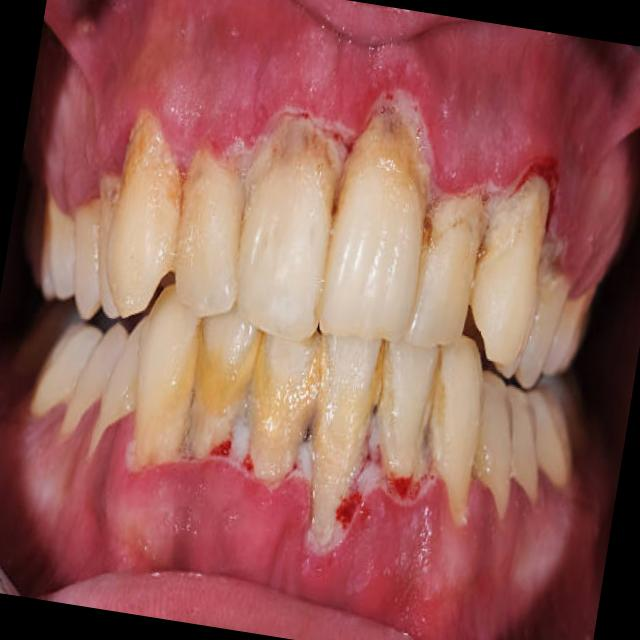calculus: (286, 356, 370, 554), (234, 112, 346, 250), (345, 343, 426, 512), (404, 353, 478, 529), (336, 104, 438, 222), (182, 338, 261, 479), (238, 352, 319, 485), (487, 152, 554, 290), (138, 334, 208, 464), (108, 114, 186, 226), (177, 128, 241, 248), (426, 166, 494, 250)
